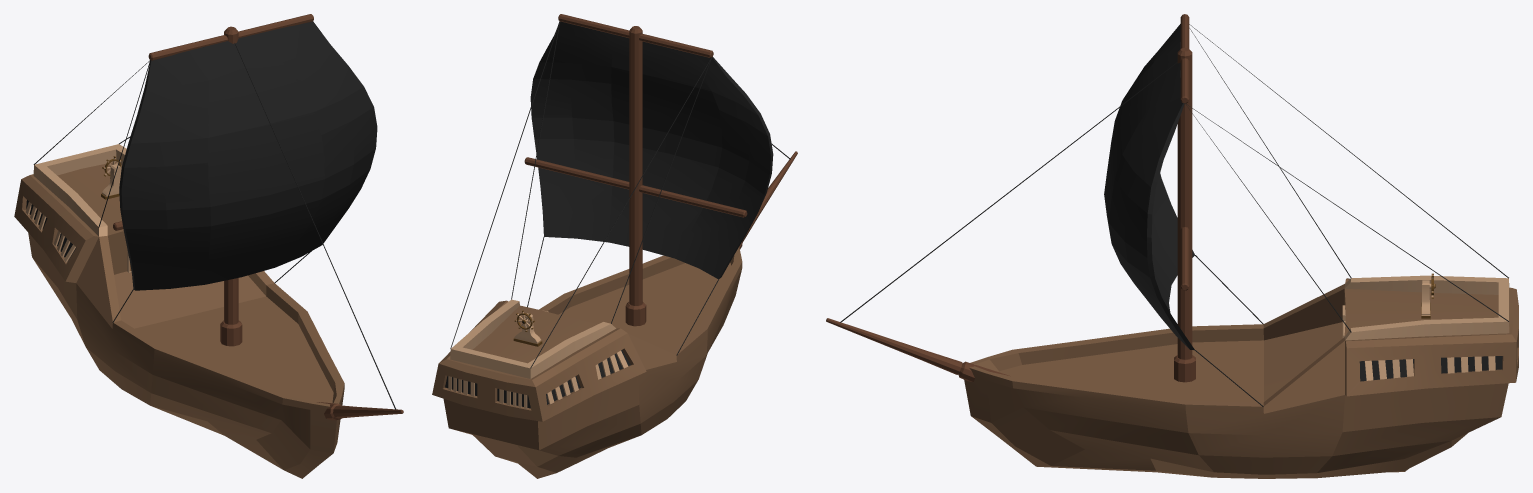
Rendered from ship_002.glb.
3 renders of one model, left to right at view 1: azimuth 30°, elevation 25°; view 2: azimuth 150°, elevation 25°; view 3: azimuth 270°, elevation 25°, orthographic. The views are drawn at different scales.
Visible parts, largest first — view 1: ship.002; view 2: ship.002; view 3: ship.002.
Part boxes in pixels (x1,y1,x2,y2): ship.002: [14, 14, 403, 478]; ship.002: [432, 14, 797, 478]; ship.002: [826, 14, 1518, 478].
Size of the model in its own units: 9.52 by 14.36 by 21.32.
1 material, 1 textured.
